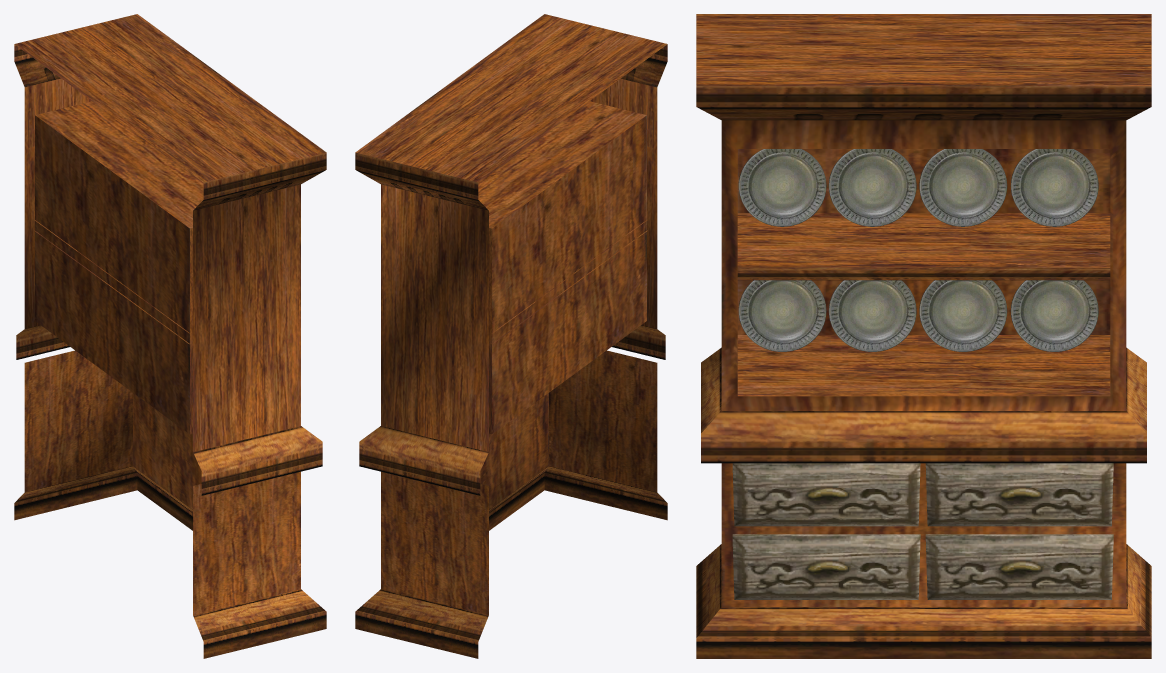
Rendered from INST_LT_CHINACABINET.fbx.
The picture shows the model from 3 angles, left to right: view 1: azimuth 30°, elevation 25°; view 2: azimuth 150°, elevation 25°; view 3: azimuth 270°, elevation 25°; orthographic projection. The views are drawn at different scales.
Visible parts, largest first — view 1: INST_LT_CHINACABINET; view 2: INST_LT_CHINACABINET; view 3: INST_LT_CHINACABINET.
Boxes of the visible parts, box(x1,y1,x2,y2) form: INST_LT_CHINACABINET: box(14, 14, 326, 658); INST_LT_CHINACABINET: box(355, 14, 667, 658); INST_LT_CHINACABINET: box(696, 14, 1151, 658).
Bounding box in the file's own units: 4798 × 17725 × 12770.
Materials: 4 (4 with a texture image).
